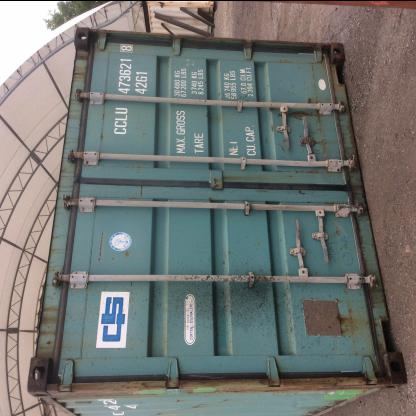Damage: (211, 263, 279, 320), (24, 296, 74, 360), (370, 309, 405, 391), (164, 254, 200, 322), (298, 126, 336, 164)
